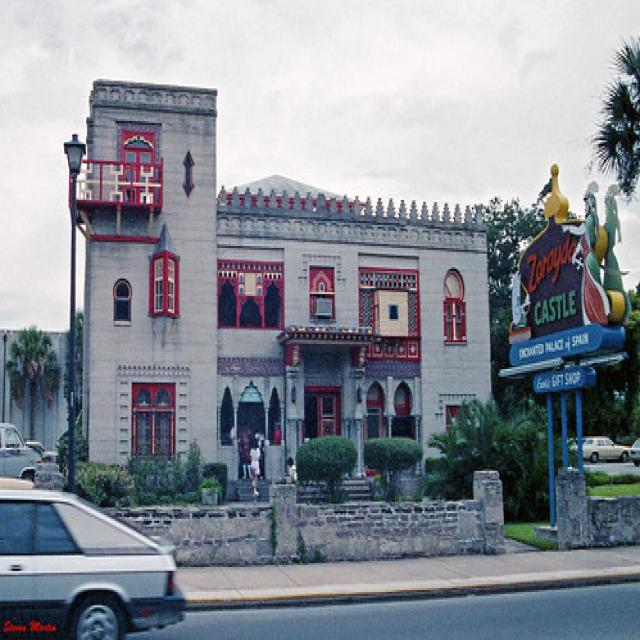building: (64, 77, 504, 546)
